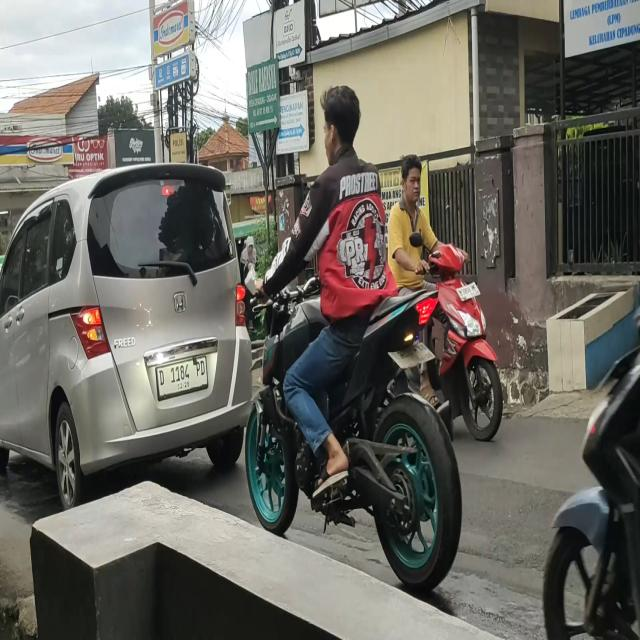no-helmet: (324, 87, 358, 159), (401, 158, 422, 204)
